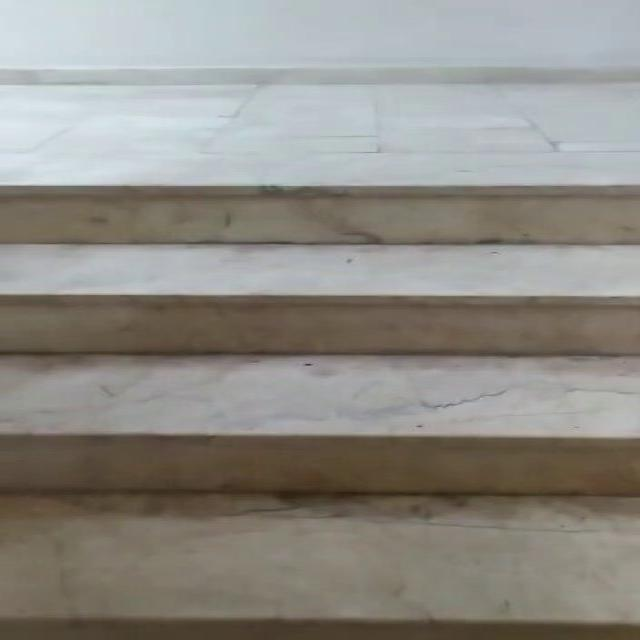upstair: (8, 166, 628, 630)
